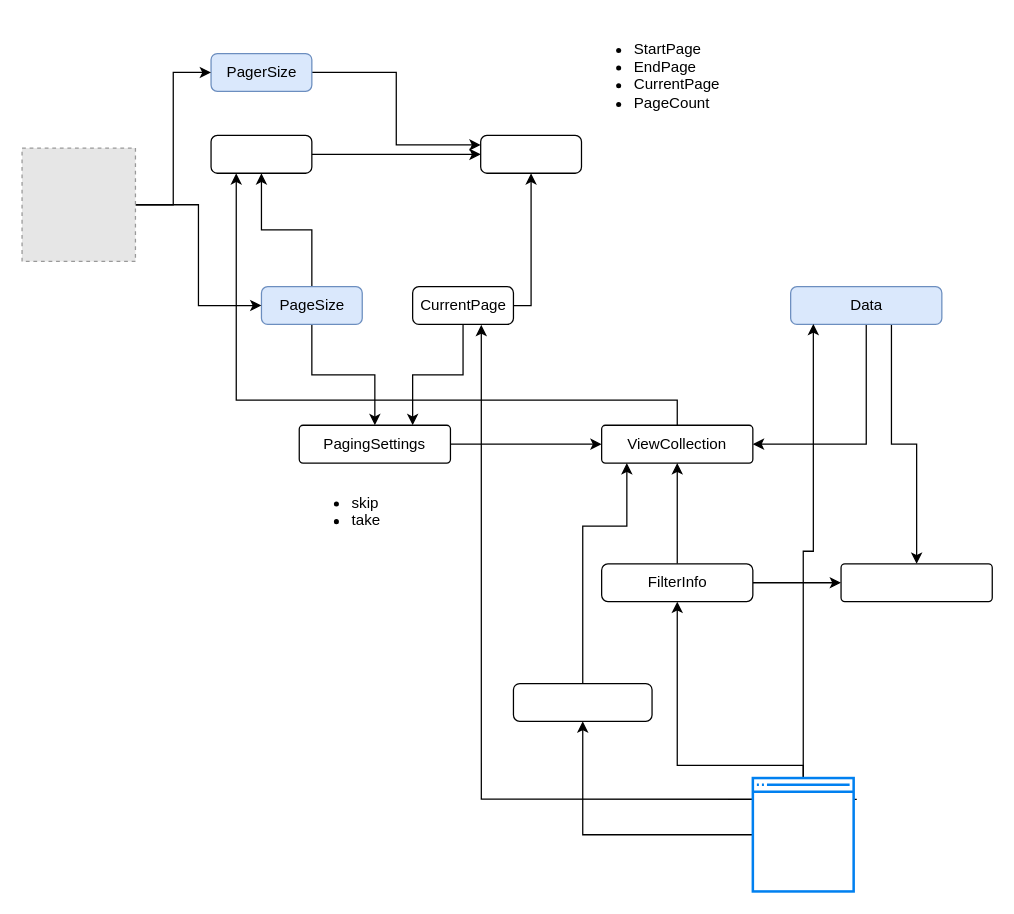
Image size: 1014x914. Some labels were removed from this diagram. Grey dashed boxes stand in for pictures. Each missing label, with the box of its shape:
ItemsCount: (840, 563, 992, 602)
OrderInfo: (512, 682, 652, 721)
PageCount: (210, 134, 312, 173)
PagerInfo: (479, 134, 581, 173)
